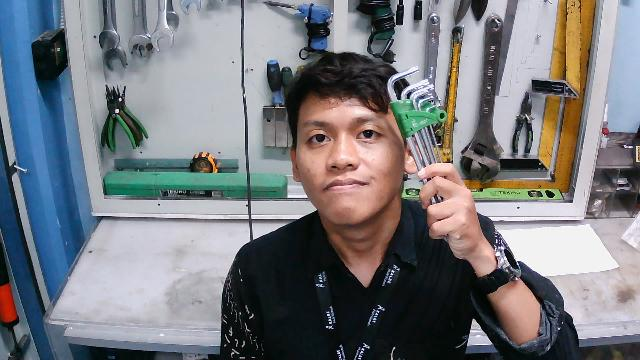kunci_l_bintang: (384, 59, 475, 246)
